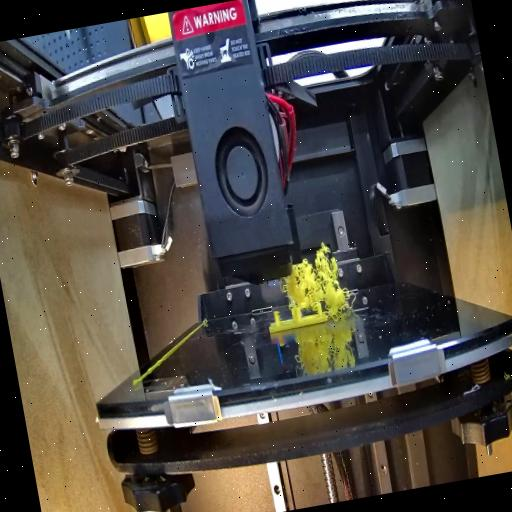spaghetti: (280, 248, 354, 322)
